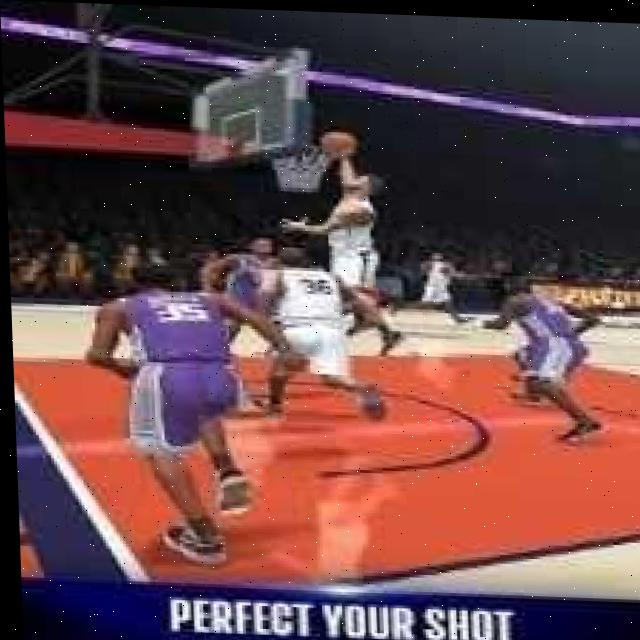basketball: (320, 126, 359, 165)
hoop: (268, 138, 335, 195)
